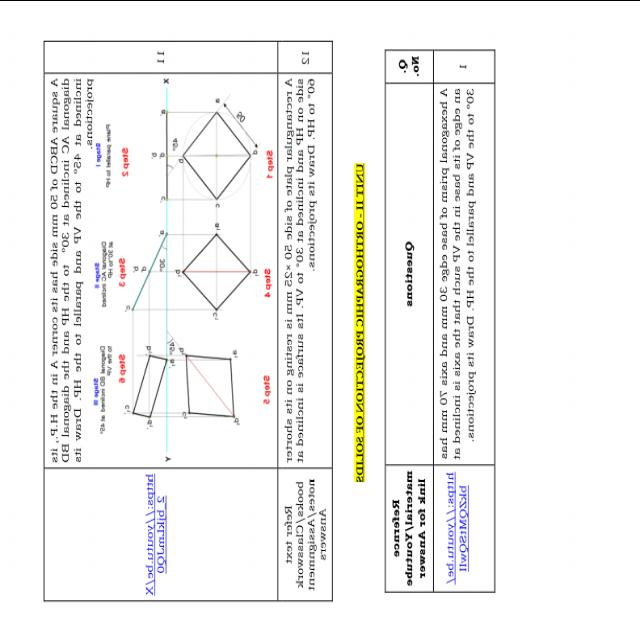Drawings: (124, 94, 260, 436)
